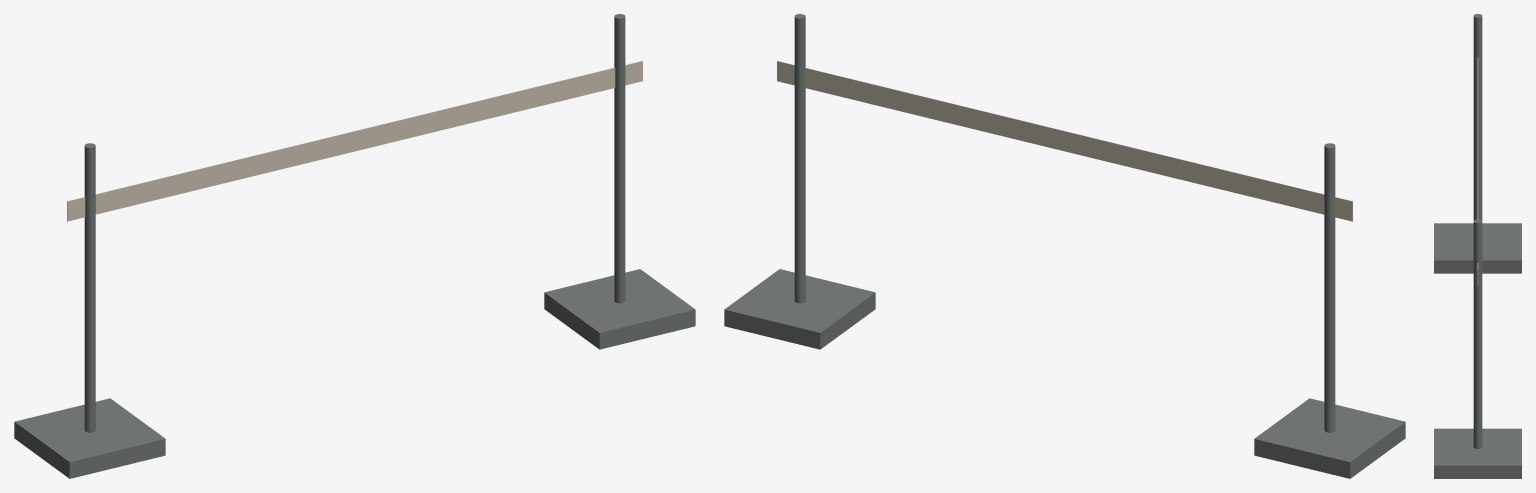
File: P033-blockout-v1.glb
3 renders of one model, left to right at view 1: azimuth 30°, elevation 25°; view 2: azimuth 150°, elevation 25°; view 3: azimuth 270°, elevation 25°, orthographic. The views are drawn at different scales.
Parts seen in each view (by area): view 1: 底腳 (×2), 封鎖帶, 支架 (×2); view 2: 底腳 (×2), 封鎖帶, 支架 (×2); view 3: 底腳 (×2), 支架 (×2), 封鎖帶.
Part boxes in pixels (left/top/right/bottom): 底腳 (×2): left=14, top=269, right=695, bottom=478; 封鎖帶: left=67, top=61, right=642, bottom=221; 支架 (×2): left=84, top=14, right=625, bottom=432; 底腳 (×2): left=724, top=269, right=1405, bottom=478; 封鎖帶: left=777, top=61, right=1352, bottom=221; 支架 (×2): left=794, top=14, right=1335, bottom=432; 底腳 (×2): left=1434, top=223, right=1521, bottom=478; 支架 (×2): left=1473, top=14, right=1482, bottom=448; 封鎖帶: left=1477, top=58, right=1478, bottom=285.
Size of the model in its own units: 1.96 by 0.9 by 0.3.
